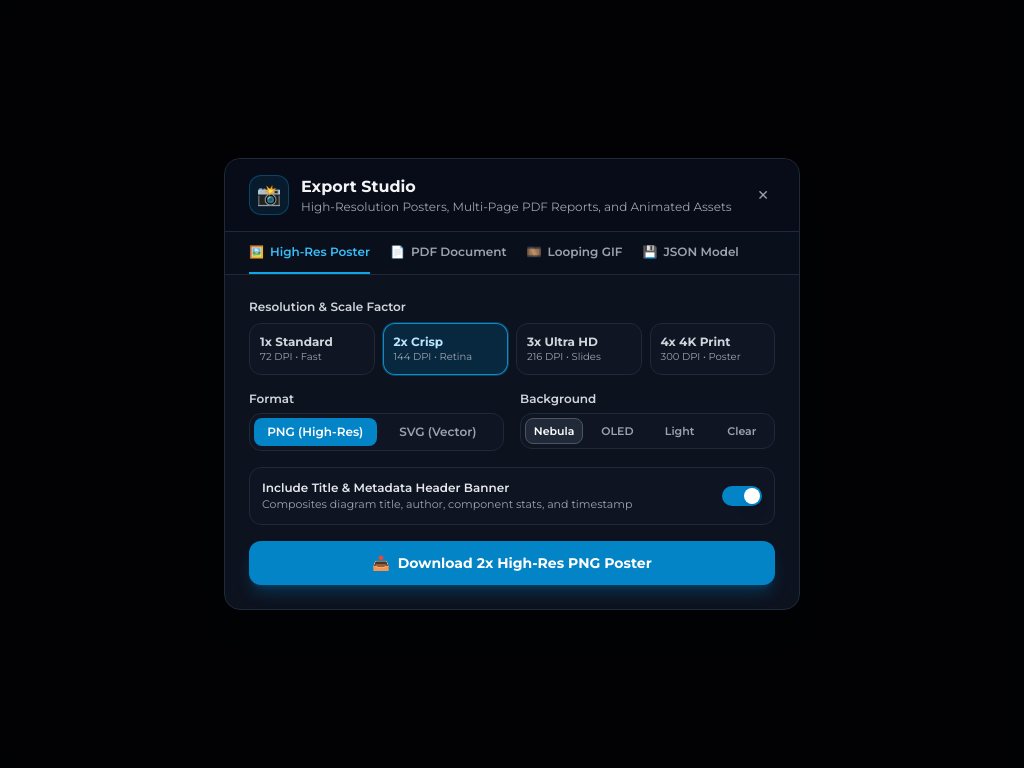
ExportModal › allows switching to PDF Document tab and selecting Multi-Page Report
Note: Switch to PDF tab
Click the button "📄 PDF Document" at (448, 253), box [390,232,507,274]
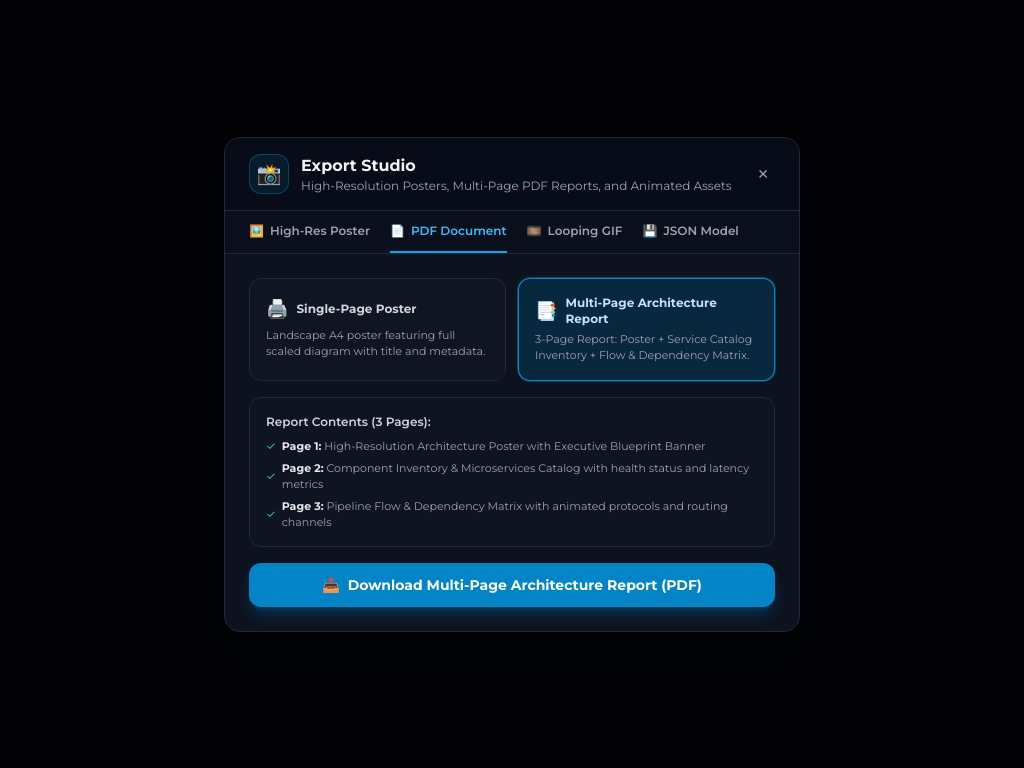
expect the text "Multi-Page Architecture Report" is shown: met, box [566,294,717,326]
expect the text "Single-Page Poster" is shown: met, box [296,300,416,316]
expect the text "Download Multi-Page Architecture Report (PDF)" is shown: met, box [348,574,702,594]
